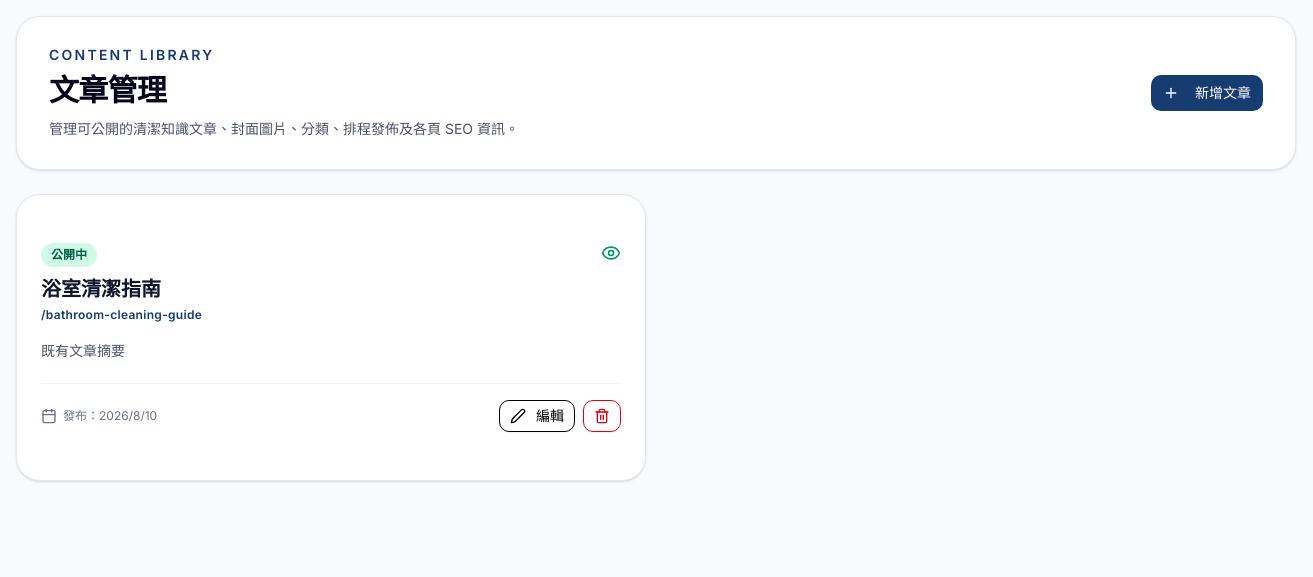
Test case: CMSBlogs 文章管理 › 最高權限管理員可刪除文章
Click the button named "刪除 浴室清潔指南" at x=602, y=416, box top-left (583, 400), bottom-right (621, 432)
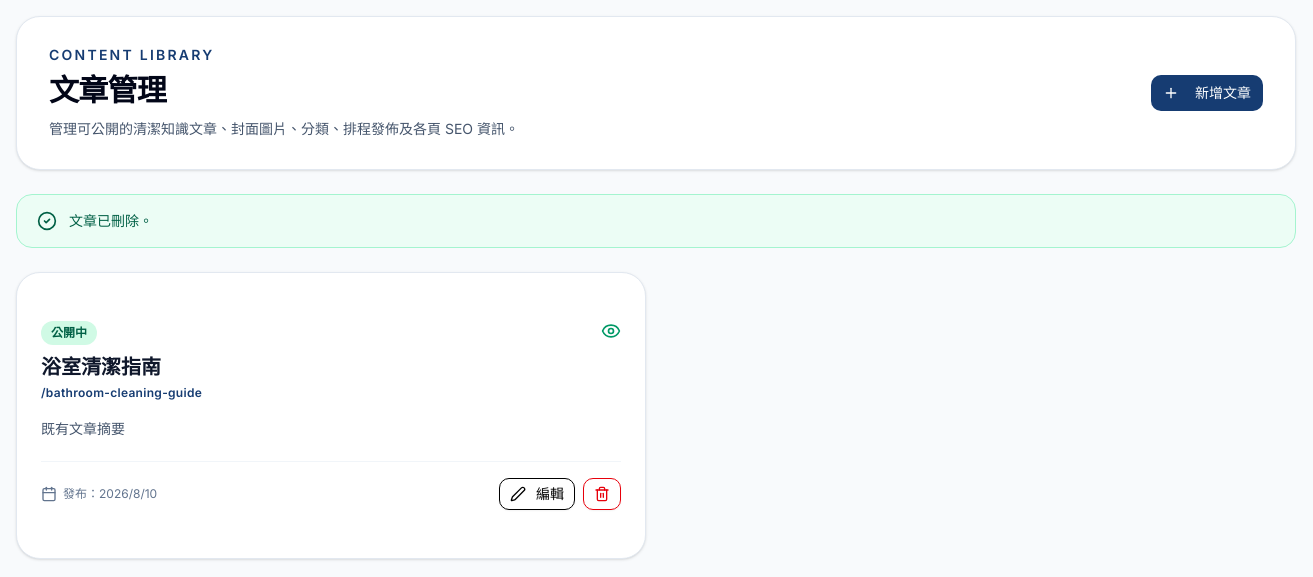
Expected: the message shows "文章已刪除", top-left (69, 212), bottom-right (153, 229)
